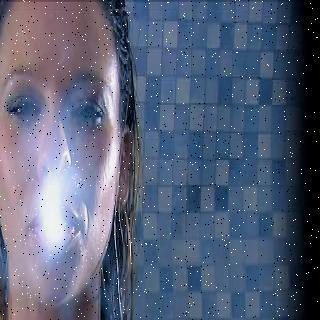smoke: (19, 166, 94, 270)
